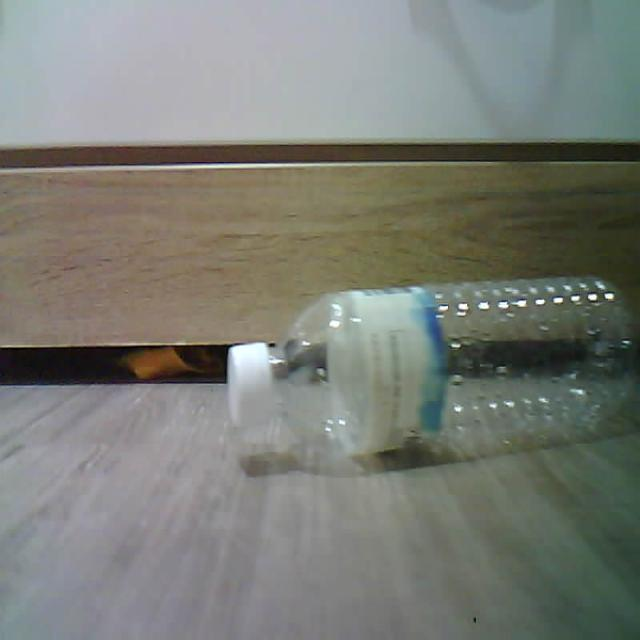bottle: (228, 276, 639, 457)
